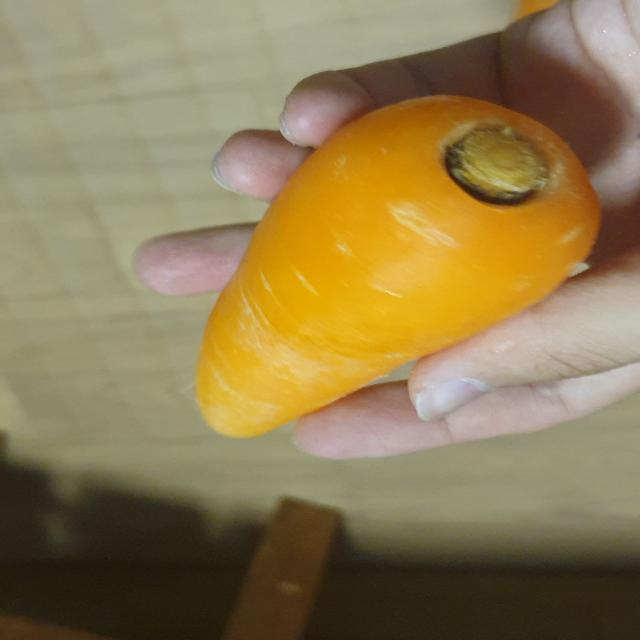carrot: (181, 88, 605, 448)
